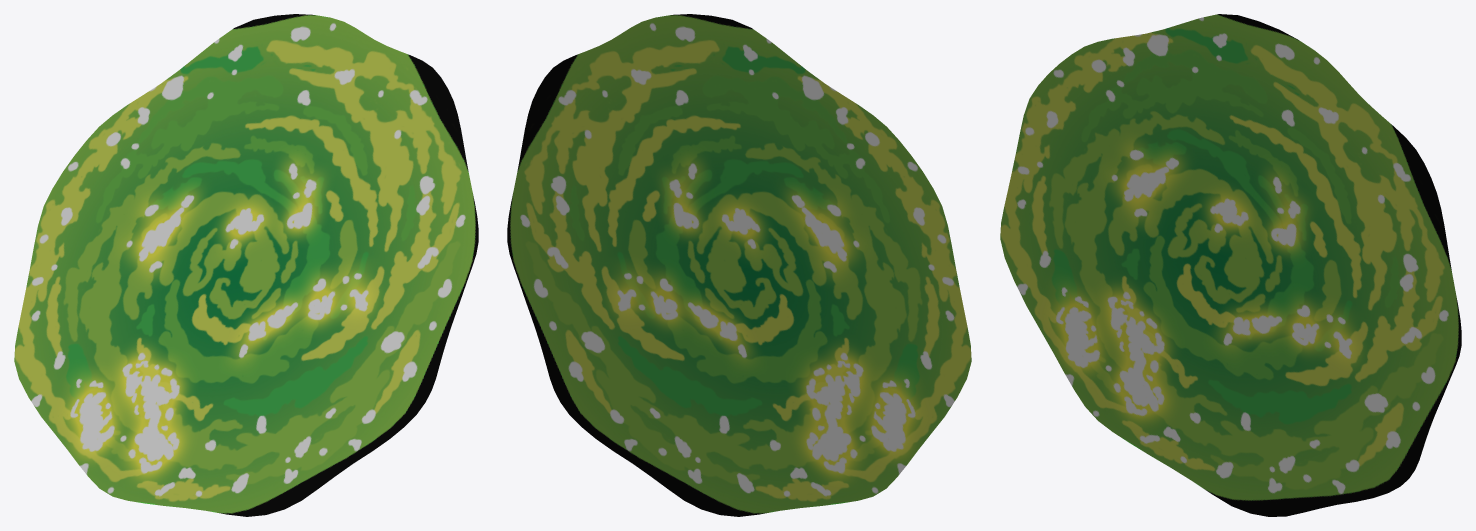
The model's file is Portal.OBJ.
3 renders of one model, left to right at view 1: azimuth 30°, elevation 25°; view 2: azimuth 150°, elevation 25°; view 3: azimuth 330°, elevation 25°, orthographic.
Visible parts, largest first — view 1: ZBrushPolyMesh3D; view 2: ZBrushPolyMesh3D; view 3: ZBrushPolyMesh3D.
Part boxes in pixels (left/top/right/bottom): ZBrushPolyMesh3D: left=14, top=14, right=478, bottom=516; ZBrushPolyMesh3D: left=507, top=14, right=971, bottom=516; ZBrushPolyMesh3D: left=1000, top=14, right=1461, bottom=516.
Size of the model in its own units: 4.22 by 4.33 by 0.
